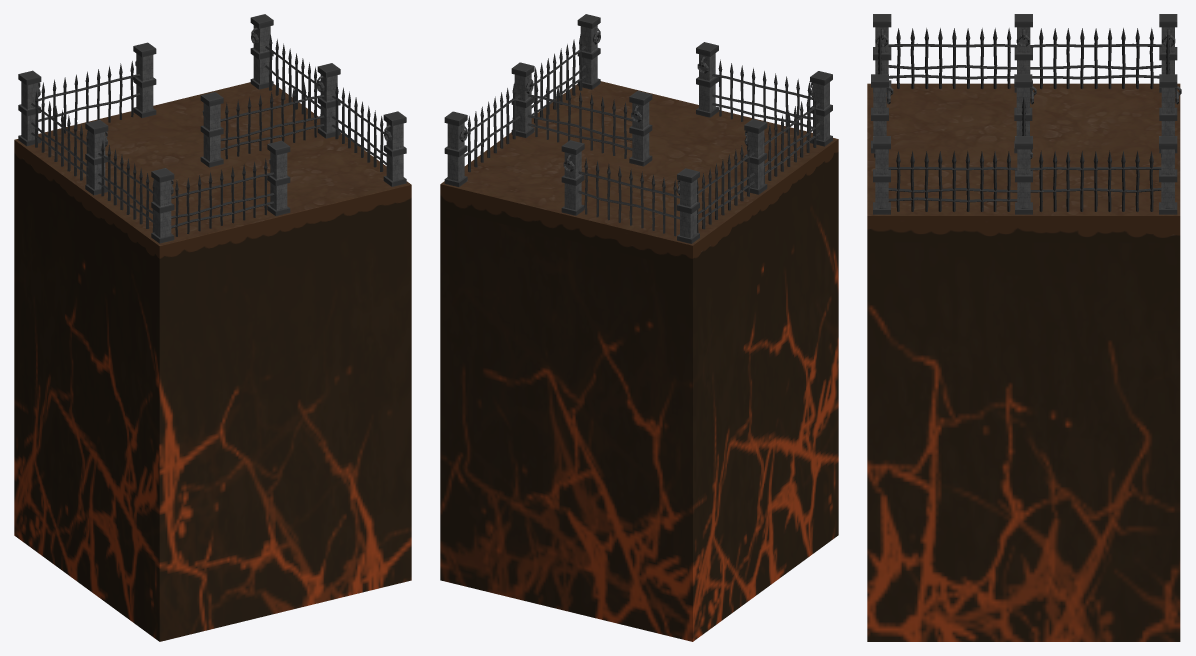
Rendered from Plataforma Reja ZigZag 2.fbx.
3 views of the same model, side by side, from view 1: azimuth 30°, elevation 25°; view 2: azimuth 150°, elevation 25°; view 3: azimuth 270°, elevation 25° (orthographic). The views are drawn at different scales.
Parts seen in each view (by area): view 1: Plataforma 1.002, Cube.081, Cube.172, Cube.184, Cube.159, Cube.082, Cube.010, Cube.107, Cube.011, Cube.095; view 2: Plataforma 1.002, Cube.107, Cube.011, Cube.172, Cube.184, Cube.159, Cube.082, Cube.010, Cube.095, Cube.081; view 3: Plataforma 1.002, Cube.107, Cube.082, Cube.095, Cube.184, Cube.159, Cube.172, Cube.010, Cube.081, Cube.011.
Boxes of the visible parts, x1=… form: Plataforma 1.002: x1=14, y1=82, x2=411, y2=641; Cube.081: x1=151, y1=168, x2=174, y2=243; Cube.172: x1=200, y1=92, x2=223, y2=167; Cube.184: x1=133, y1=42, x2=156, y2=117; Cube.159: x1=267, y1=140, x2=290, y2=215; Cube.082: x1=383, y1=111, x2=406, y2=186; Cube.010: x1=85, y1=120, x2=108, y2=195; Cube.107: x1=250, y1=14, x2=273, y2=89; Cube.011: x1=18, y1=70, x2=41, y2=146; Cube.095: x1=317, y1=63, x2=340, y2=138; Plataforma 1.002: x1=440, y1=81, x2=838, y2=641; Cube.107: x1=444, y1=111, x2=467, y2=186; Cube.011: x1=677, y1=168, x2=699, y2=243; Cube.172: x1=629, y1=90, x2=652, y2=166; Cube.184: x1=561, y1=140, x2=584, y2=215; Cube.159: x1=696, y1=42, x2=718, y2=117; Cube.082: x1=577, y1=14, x2=600, y2=89; Cube.010: x1=744, y1=119, x2=767, y2=194; Cube.095: x1=511, y1=62, x2=534, y2=137; Cube.081: x1=810, y1=71, x2=832, y2=146; Plataforma 1.002: x1=867, y1=83, x2=1180, y2=641; Cube.107: x1=1159, y1=136, x2=1177, y2=214; Cube.082: x1=873, y1=136, x2=890, y2=214; Cube.095: x1=1015, y1=136, x2=1032, y2=214; Cube.184: x1=1159, y1=74, x2=1177, y2=153; Cube.159: x1=871, y1=74, x2=888, y2=153; Cube.172: x1=1014, y1=74, x2=1032, y2=153; Cube.010: x1=1014, y1=14, x2=1032, y2=92; Cube.081: x1=873, y1=14, x2=891, y2=92; Cube.011: x1=1159, y1=14, x2=1177, y2=92.
Bounding box in the file's own units: 1000 × 1750 × 1004.
